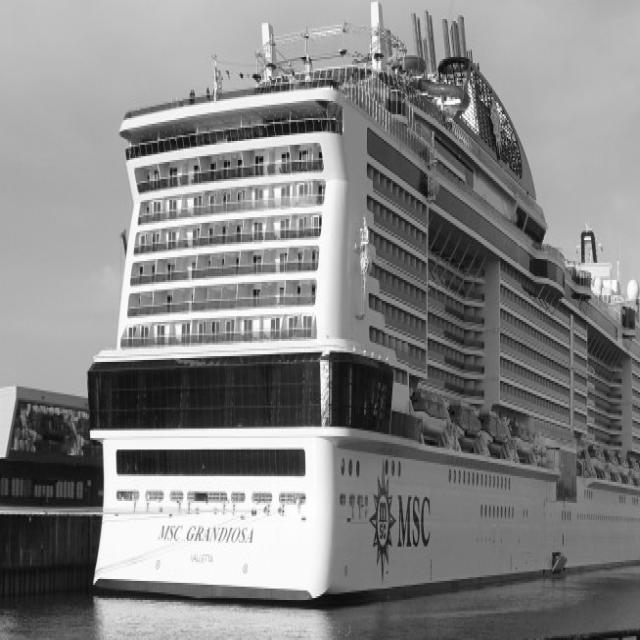cruises: (95, 1, 640, 601)
